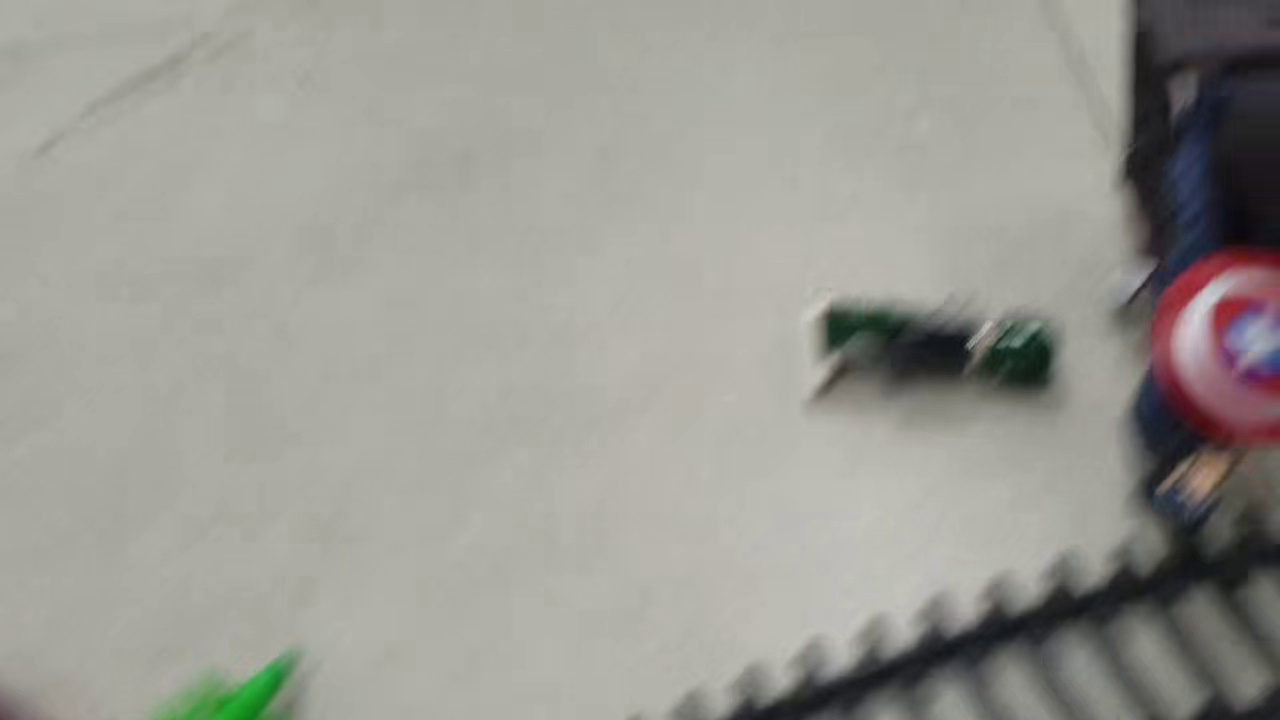people: (1131, 94, 1280, 535), (799, 288, 1067, 410)
